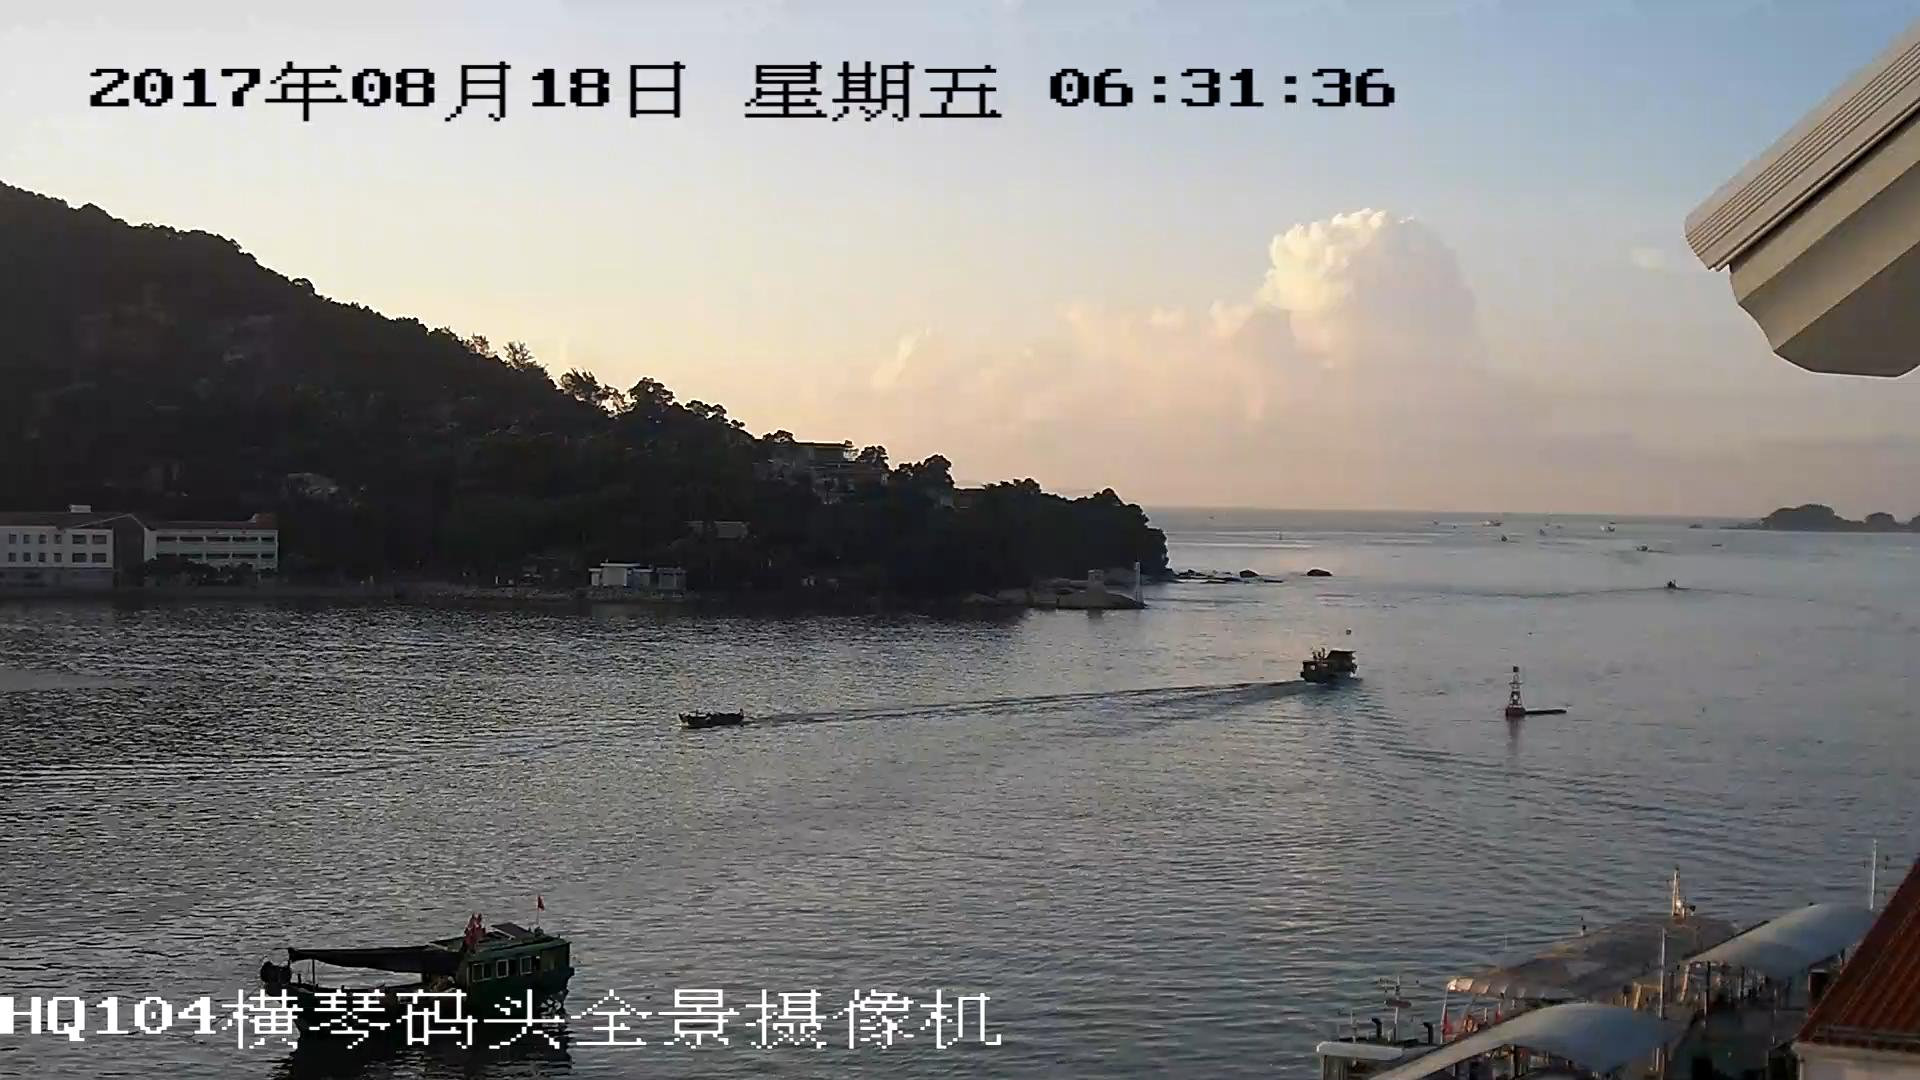fishing boat: (261, 915, 568, 985), (1300, 649, 1355, 683), (684, 708, 748, 727)
